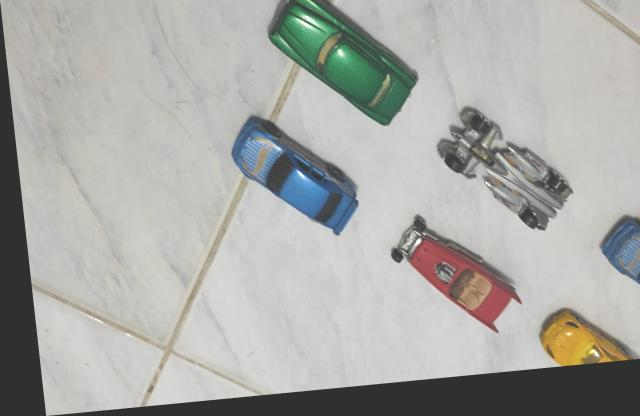03_V8: (383, 222, 515, 345)
04_MERZEDES: (226, 119, 354, 243), (593, 229, 640, 304)
05_DC121: (432, 114, 568, 242)
06_MASERATI: (265, 0, 417, 134)
07_RHLTURBO: (530, 318, 626, 377)
